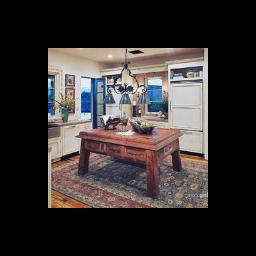Armario: (168, 83, 202, 129)
Puerta: (94, 77, 105, 128)
